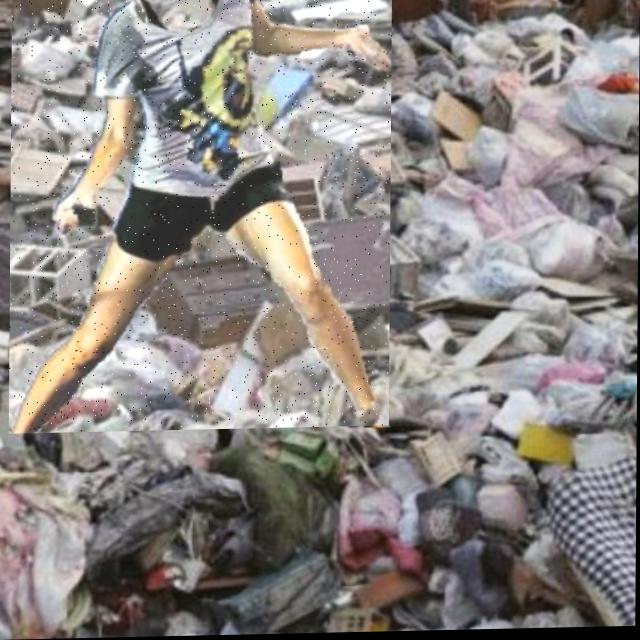Person in Rubble: (9, 0, 392, 434)
